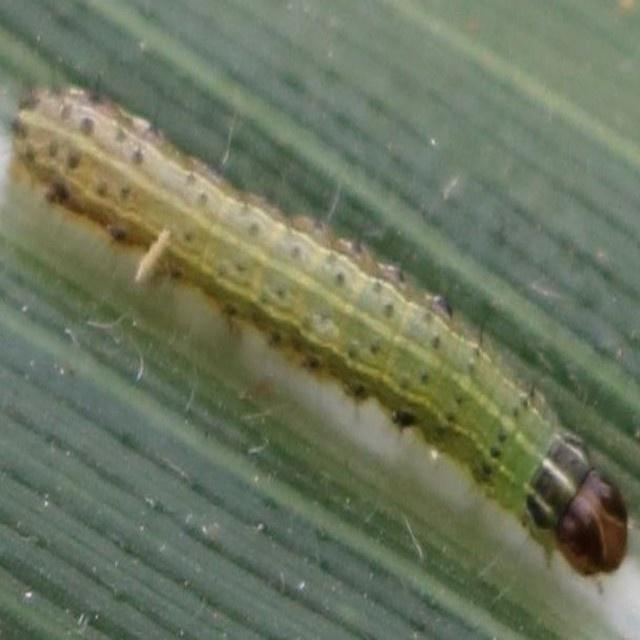gusano_cogollero: (8, 73, 640, 600)
